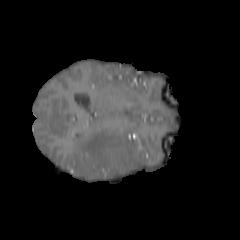glioma: (72, 128, 146, 179)
